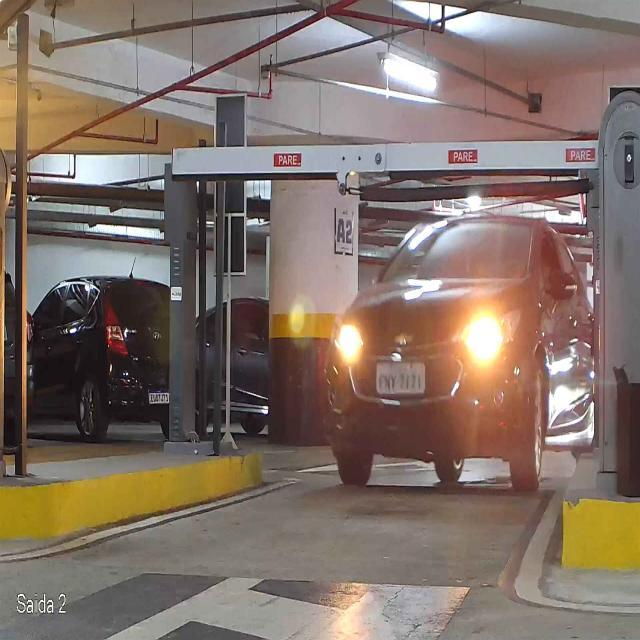old_plate: (374, 360, 428, 397)
